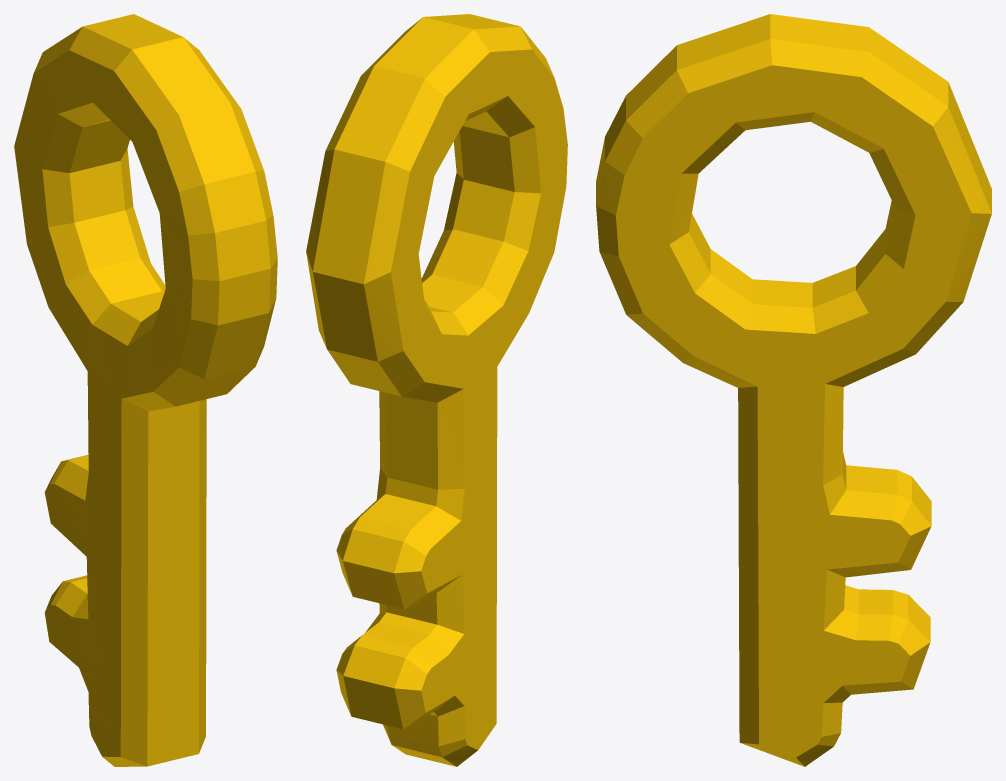
The model's file is HJD_FP_key00.fbx.
3 views of the same model, side by side, from view 1: azimuth 30°, elevation 25°; view 2: azimuth 150°, elevation 25°; view 3: azimuth 270°, elevation 25° (orthographic).
Visible parts, largest first — view 1: transform_unity_scale17; view 2: transform_unity_scale17; view 3: transform_unity_scale17.
Boxes of the visible parts, x1=… form: transform_unity_scale17: x1=14, y1=14, x2=277, y2=766; transform_unity_scale17: x1=306, y1=14, x2=567, y2=766; transform_unity_scale17: x1=596, y1=14, x2=991, y2=766.
Size of the model in its own units: 6.02 by 49.1 by 24.2.
